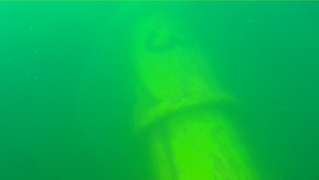3: (145, 29, 194, 53)
pipe: (118, 1, 261, 179)
